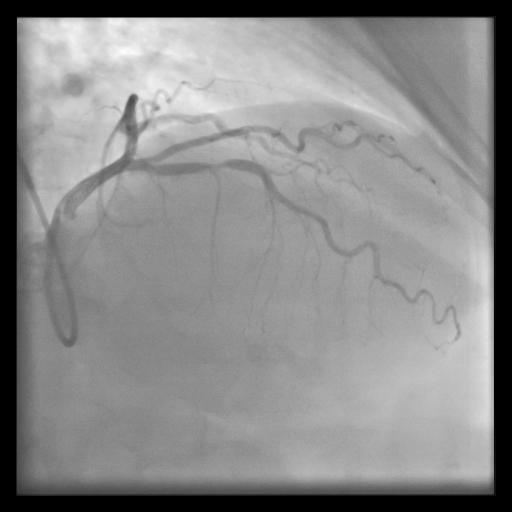Stenosis: (205, 157, 228, 174)
